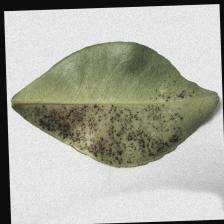canker: (59, 106, 156, 150)
